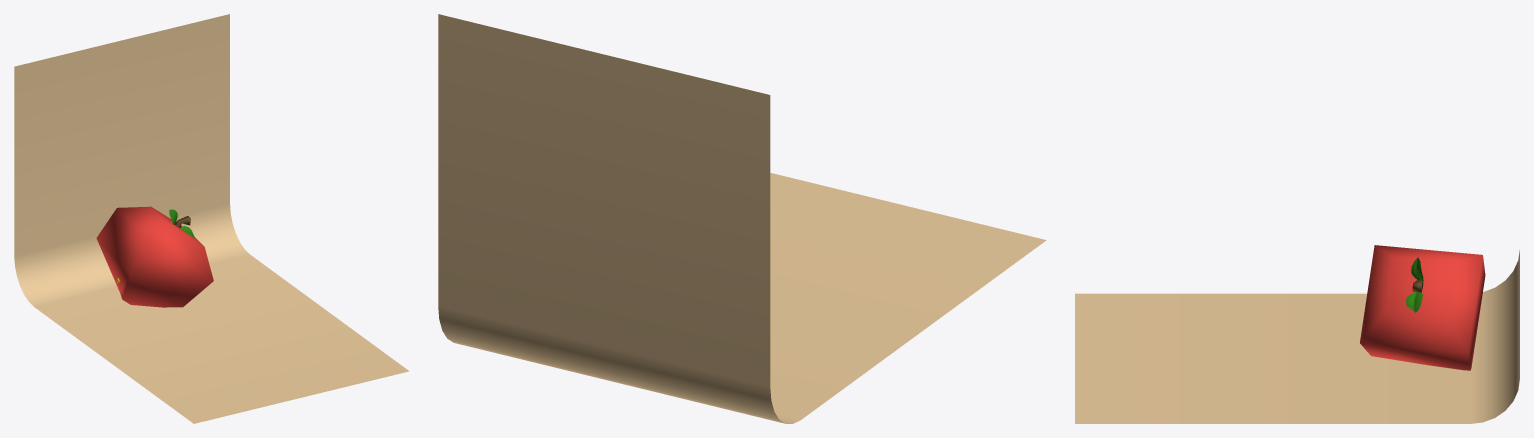
File: strawberry.glb
3 views of the same model, side by side, from view 1: azimuth 30°, elevation 25°; view 2: azimuth 150°, elevation 25°; view 3: azimuth 270°, elevation 25° (orthographic). The views are drawn at different scales.
Visible parts, largest first — view 1: Plane.002, Cube; view 2: Plane.002; view 3: Plane.002, Cube.
Part boxes in pixels (box(x1,y1,x2,y2)): Plane.002: box(14, 14, 408, 423); Cube: box(96, 206, 213, 307); Plane.002: box(438, 14, 1046, 423); Plane.002: box(1075, 250, 1519, 423); Cube: box(1360, 245, 1485, 370).
Size of the model in its own units: 8.52 by 8.65 by 12.28.
